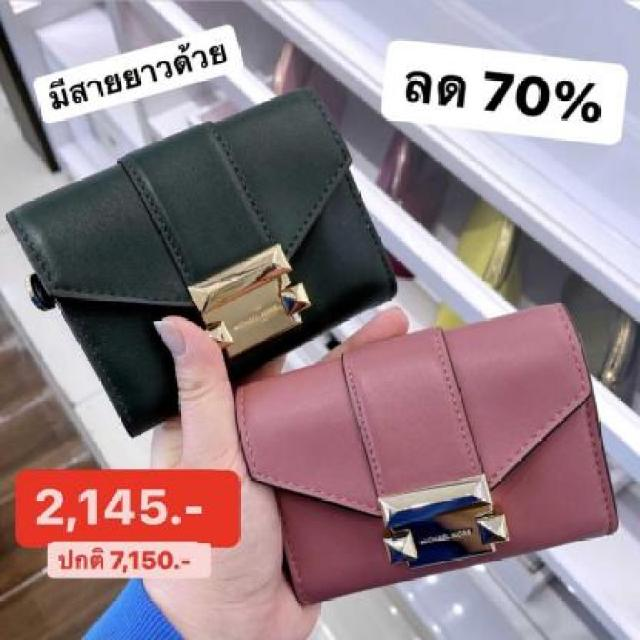Bag: (0, 39, 415, 450), (201, 308, 640, 594)
